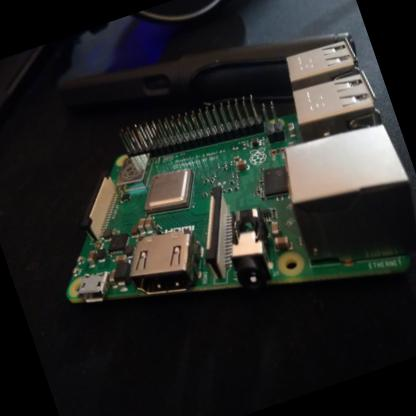Raspberry_Pi_3: (7, 24, 416, 390)
